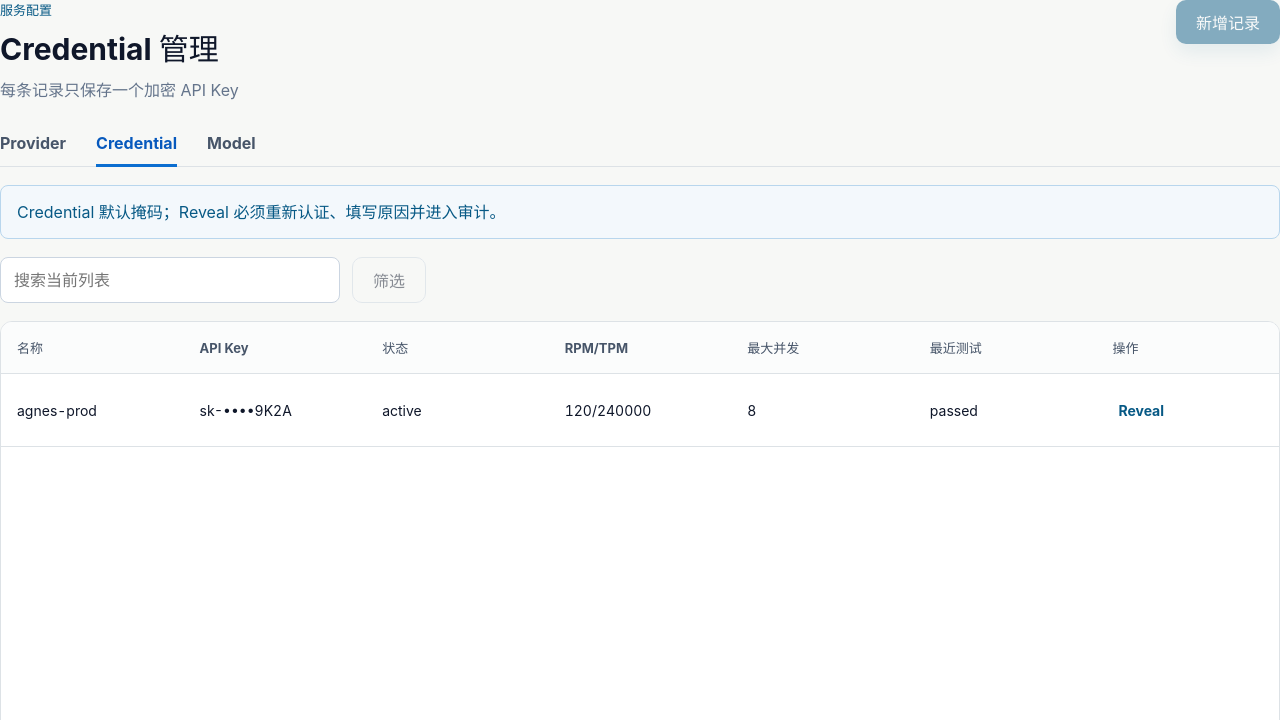
Test: Admin resource view › keeps Credential masked until the unified sensitive dialog succeeds
Click the button with test id "credential-reveal" at x=1141, y=410, box [1112,390,1170,430]
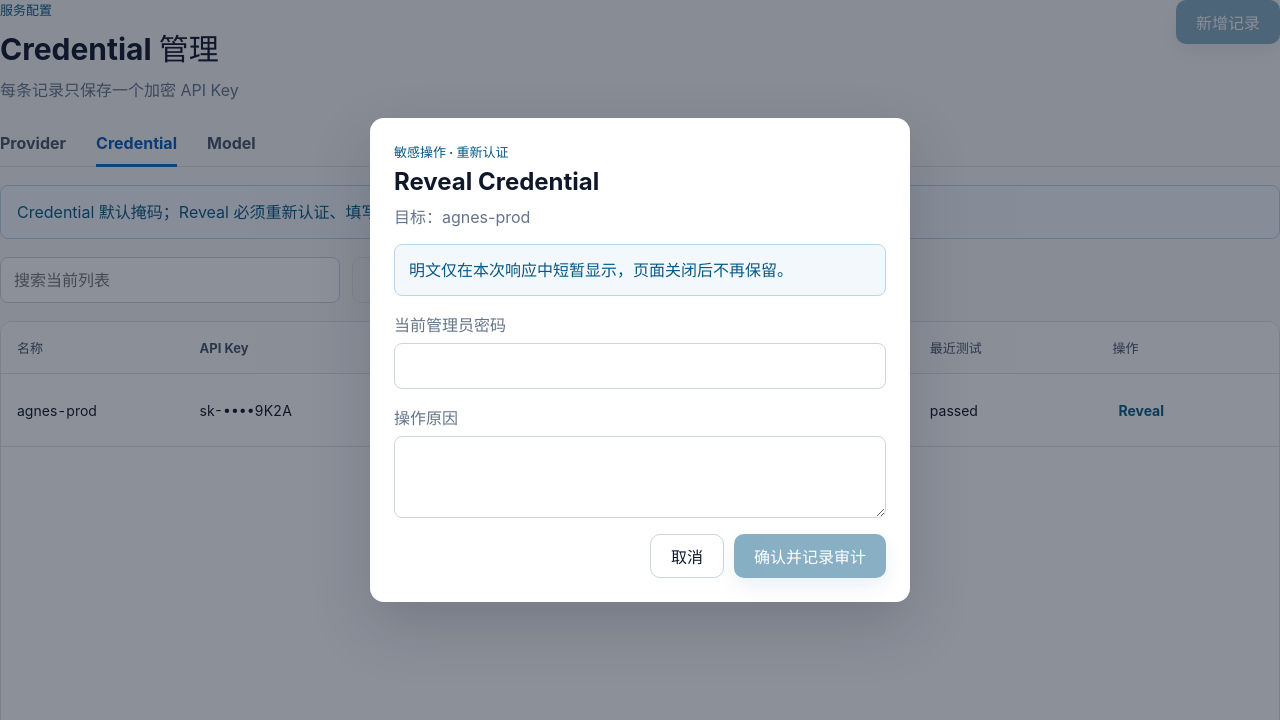
expect the text "one-time-secret" is not shown: met
expect the dialog shows "重新认证": met, box [394,144,508,160]
expect the dialog shows "操作原因": met, box [394,408,458,428]
Type "admin-password" into the password field labelled "当前管理员密码" at x=640, y=366, box [394,343,886,389]
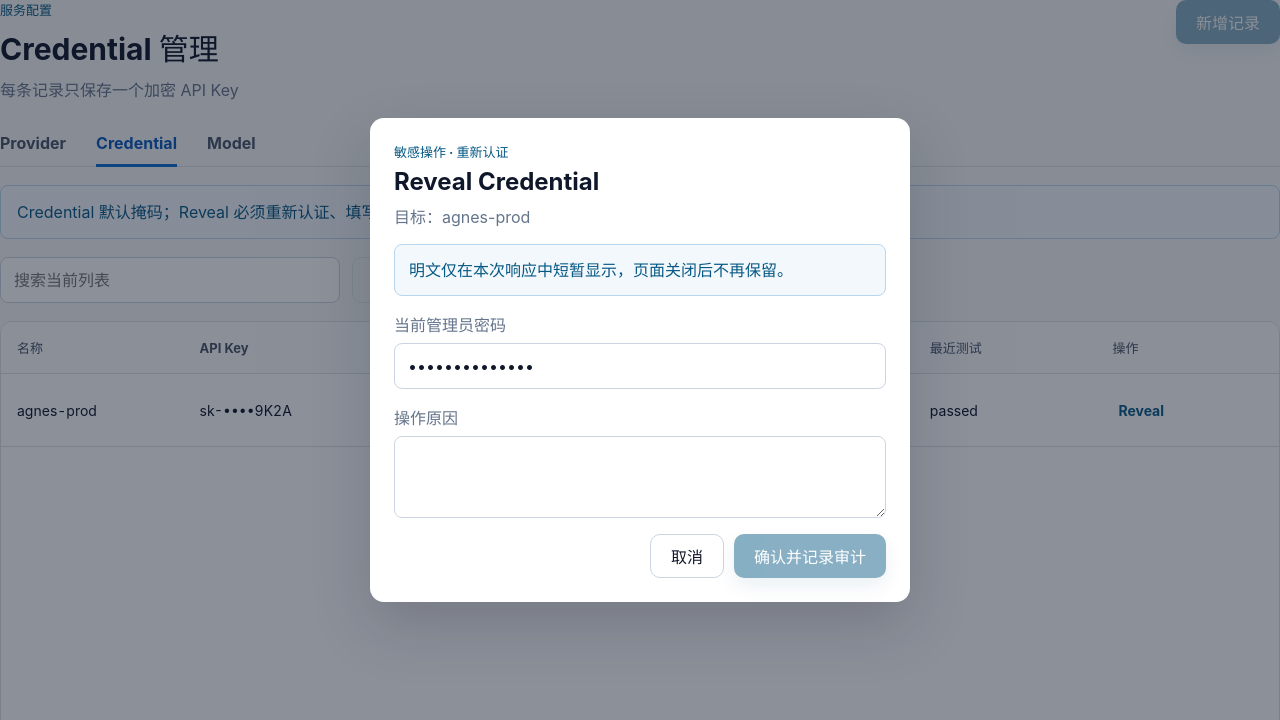
Type "凭据轮换核查" into the text box labelled "操作原因" at x=640, y=477, box [394,436,886,518]
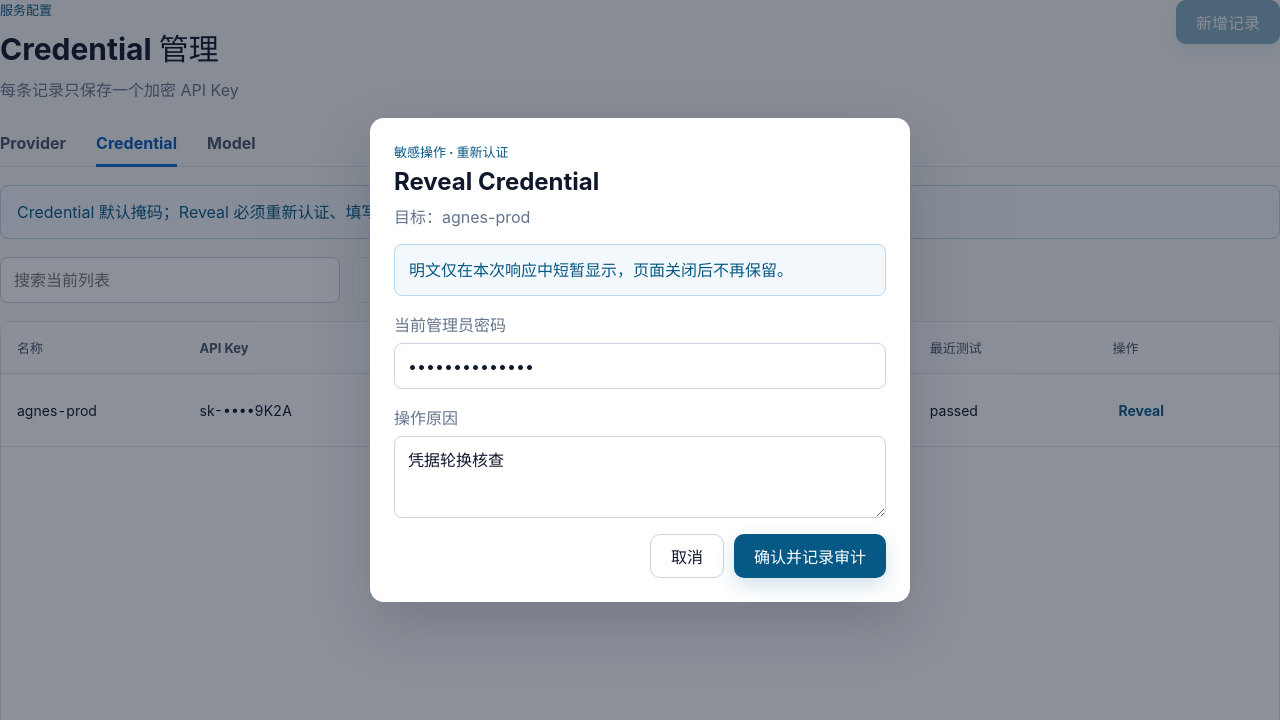
Click the button with test id "sensitive-confirm" at x=810, y=556, box [734,534,886,578]
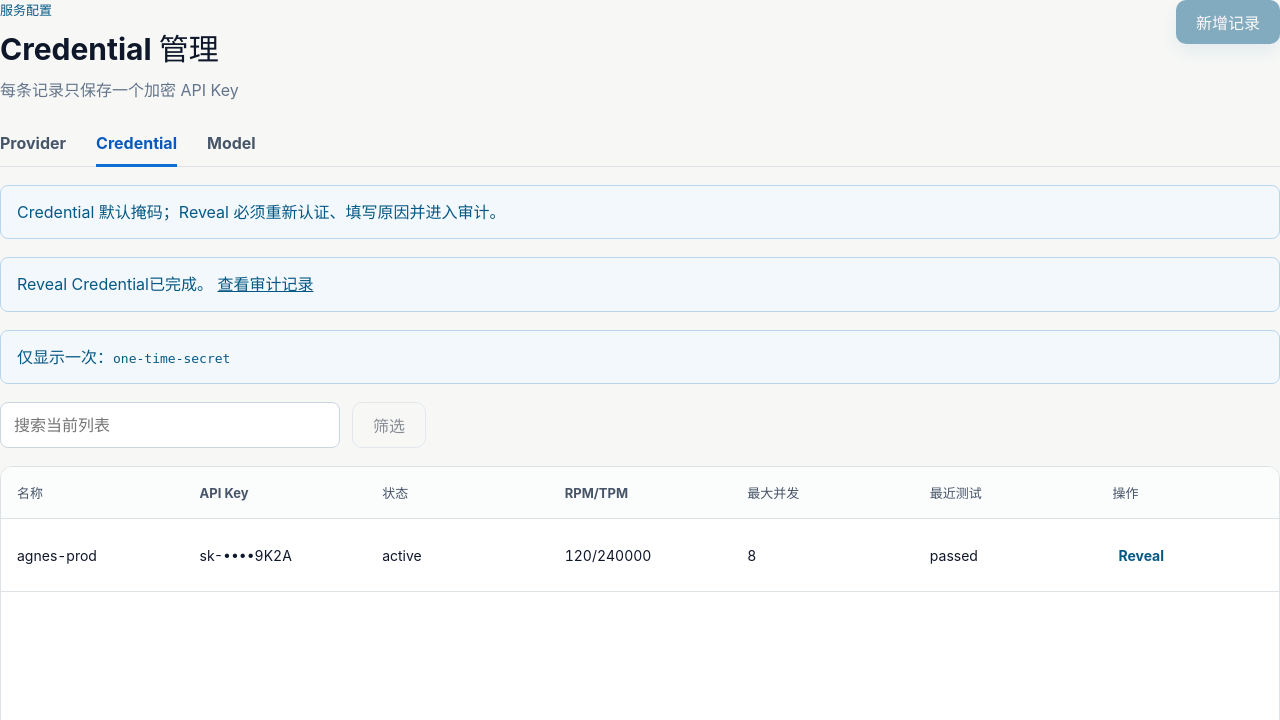
expect the text "one-time-secret" is shown: met, box [113,351,230,366]
